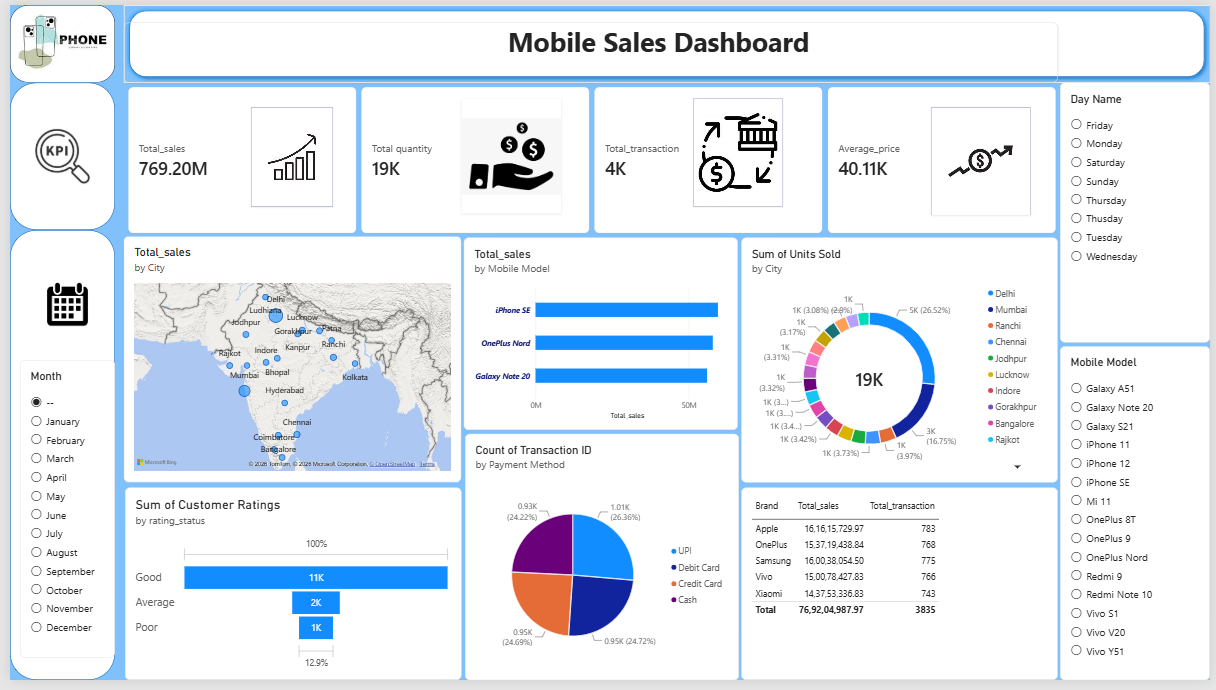

The page's visual inventory and layout, read from the dashboard file:
{"tool":"powerbi","page":{"name":"Page 1","canvas":[1920,1080],"ordinal":0},"visuals":[{"type":"image","box":[0,0,168,124],"z":0},{"type":"shape","box":[0,360,168,720],"z":1000},{"type":"shape","box":[0,124,168,236],"z":2000},{"type":"cardVisual","fields":{"Data":["Mobile_sales data.Total_sales","Mobile_sales data.Total quantity","Mobile_sales data.Total_transaction","Mobile_sales data.Average_price"]},"box":[182,124,1498,248],"z":4000},{"type":"image","box":[386.7,163.3,130,158],"z":5000},{"type":"image","box":[721.7,150,160,184],"z":6000},{"type":"image","box":[1094,150,142,172],"z":7000},{"type":"image","box":[1473.3,163.3,158,172],"z":8000},{"type":"map","fields":{"Category":["Mobile_sales data.City"],"Size":["Mobile_sales data.Total_sales"]},"box":[181.7,370,540,393.3],"z":9000},{"type":"shape","box":[182,0,1738,124],"z":10000},{"type":"textbox","box":[184,770,354,310],"z":11000},{"type":"listSlicer","fields":{"Values":["Mobile_sales data.Mobile Model"]},"box":[1680,546,240,534],"z":13000},{"type":"funnel","fields":{"Category":["Mobile_sales data.rating_status"],"Y":["Sum(Mobile_sales data.Customer Ratings)"]},"box":[183.3,771.7,538.3,308.3],"z":14000},{"type":"pieChart","fields":{"Category":["Mobile_sales data.Payment Method"],"Y":["CountNonNull(Mobile_sales data.Transaction ID)"]},"box":[728.3,686.7,438,394],"z":15000},{"type":"textbox","box":[182,28,1494,96],"z":17000},{"type":"barChart","fields":{"Category":["Mobile_sales data.Mobile Model"],"Y":["Mobile_sales data.Total_sales"]},"box":[726,372,438,308],"z":17001},{"type":"donutChart","fields":{"Category":["Mobile_sales data.City"],"Y":["Sum(Mobile_sales data.Units Sold)"]},"box":[1170,372,506,392],"z":17002},{"type":"tableEx","fields":{"Values":["Mobile_sales data.Brand","Mobile_sales data.Total_sales","Mobile_sales data.Total_transaction"]},"box":[1170,772,506,308],"z":17003},{"type":"listSlicer","fields":{"Values":["Mobile_sales data.Day Name"]},"box":[1680,124,240,416],"z":17004},{"type":"listSlicer","fields":{"Values":["custom_calender.date.Variation.Date Hierarchy.Month"]},"box":[16,568,152,476],"z":17005},{"type":"image","box":[24,390,136,178],"z":17006},{"type":"image","box":[8,150,152,184],"z":17007}]}

Visuals, with their boxes in screenshot pixels (x1, y1, x2, y2), scaled from the page's 1920x1080 canvas onto the 1216x690 screenshot:
image: 0,0,106,79
shape: 0,230,106,689
shape: 0,79,106,230
cardVisual - Mobile_sales data.Total_sales x Mobile_sales data.Total quantity: 115,79,1064,238
image: 245,104,327,205
image: 457,96,558,213
image: 693,96,783,206
image: 933,104,1033,214
map - Mobile_sales data.City x Mobile_sales data.Total_sales: 115,236,457,488
shape: 115,0,1215,79
textbox: 117,492,341,689
listSlicer - Mobile_sales data.Mobile Model: 1064,349,1215,689
funnel - Mobile_sales data.rating_status x Sum(Mobile_sales data.Customer Ratings): 116,493,457,689
pieChart - Mobile_sales data.Payment Method x CountNonNull(Mobile_sales data.Transaction ID): 461,439,739,689
textbox: 115,18,1061,79
barChart - Mobile_sales data.Mobile Model x Mobile_sales data.Total_sales: 460,238,737,434
donutChart - Mobile_sales data.City x Sum(Mobile_sales data.Units Sold): 741,238,1061,488
tableEx - Mobile_sales data.Brand x Mobile_sales data.Total_sales: 741,493,1061,689
listSlicer - Mobile_sales data.Day Name: 1064,79,1215,345
listSlicer - custom_calender.date.Variation.Date Hierarchy.Month: 10,363,106,667
image: 15,249,101,363
image: 5,96,101,213
